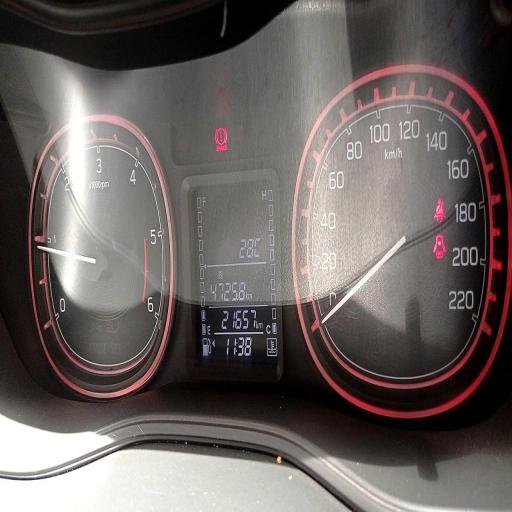belt: (434, 197, 446, 224)
brake_system_fault: (215, 126, 227, 146)
tachometer: (31, 113, 174, 398)
